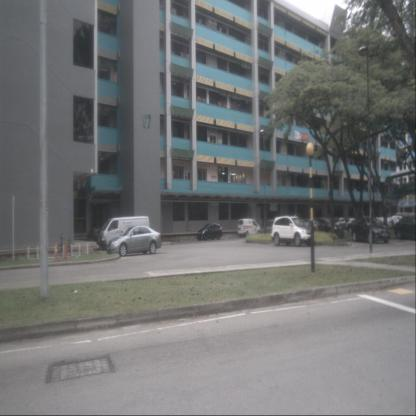cone: (63, 243, 69, 260), (54, 242, 59, 260)
